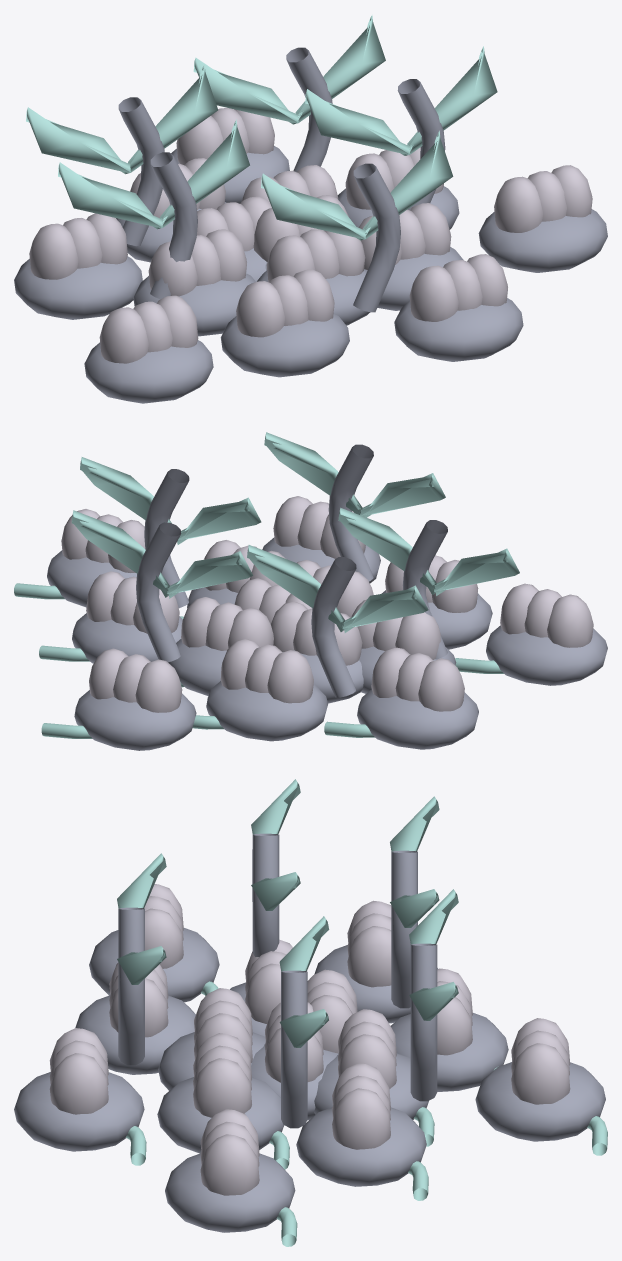
File: bio_acid_mat_22_far.glb
3 renders of one model, top to bottom at view 1: azimuth 30°, elevation 25°; view 2: azimuth 150°, elevation 25°; view 3: azimuth 270°, elevation 25°, orthographic. The views are drawn at different scales.
Visible parts, largest first — view 1: Microbial cushion.012, Microbial cushion.007, Microbial cushion.010, Microbial cushion.013, Microbial cushion.009, Secondary fan lobe, Secondary fan lobe.004, Secondary fan lobe.002, Secondary fan lobe.008, Secondary fan lobe.006, Reaction vesicle.036, Reaction vesicle.021 (+23 smaller); view 2: Microbial cushion.011, Microbial cushion.012, Microbial cushion.006, Microbial cushion.009, Reaction vesicle.033, Reaction vesicle.036, Reaction vesicle.027, Reaction vesicle.018, Secondary fan lobe.002, Secondary fan lobe.006, Secondary fan lobe.008, Secondary fan lobe.004 (+29 smaller); view 3: Microbial cushion.011, Microbial cushion.008, Microbial cushion.010, Microbial cushion.013, Reaction vesicle.024, Reaction vesicle.039, Reaction vesicle.033, Reaction vesicle.030, Reaction vesicle.015, Microbial cushion.005, Microbial cushion.006, Branching support.003 (+24 smaller).
Part boxes in pixels (bbox=[...]): Microbial cushion.012: bbox=[84, 340, 213, 403]; Microbial cushion.007: bbox=[220, 313, 349, 377]; Microbial cushion.010: bbox=[394, 298, 523, 361]; Microbial cushion.013: bbox=[478, 209, 607, 272]; Microbial cushion.009: bbox=[14, 256, 142, 319]; Secondary fan lobe: bbox=[305, 46, 497, 155]; Secondary fan lobe.004: bbox=[261, 130, 453, 240]; Secondary fan lobe.002: bbox=[26, 64, 217, 174]; Secondary fan lobe.008: bbox=[58, 119, 249, 229]; Secondary fan lobe.006: bbox=[193, 15, 385, 124]; Reaction vesicle.036: bbox=[99, 295, 198, 363]; Reaction vesicle.021: bbox=[236, 269, 334, 337]; Microbial cushion.011: bbox=[74, 690, 196, 750]; Microbial cushion.012: bbox=[486, 625, 607, 685]; Microbial cushion.006: bbox=[206, 681, 328, 741]; Microbial cushion.009: bbox=[357, 689, 478, 749]; Reaction vesicle.033: bbox=[89, 648, 182, 712]; Reaction vesicle.036: bbox=[500, 583, 593, 647]; Reaction vesicle.027: bbox=[371, 647, 464, 711]; Reaction vesicle.018: bbox=[220, 639, 313, 703]; Secondary fan lobe.002: bbox=[247, 545, 428, 632]; Secondary fan lobe.006: bbox=[71, 510, 252, 598]; Secondary fan lobe.008: bbox=[338, 507, 519, 595]; Secondary fan lobe.004: bbox=[264, 432, 445, 517]; Microbial cushion.011: bbox=[475, 1062, 605, 1141]; Microbial cushion.008: bbox=[296, 1107, 426, 1186]; Microbial cushion.010: bbox=[14, 1072, 144, 1151]; Microbial cushion.013: bbox=[165, 1153, 295, 1232]; Reaction vesicle.024: bbox=[332, 1063, 390, 1149]; Reaction vesicle.039: bbox=[200, 1109, 259, 1195]; Reaction vesicle.033: bbox=[511, 1018, 570, 1104]; Reaction vesicle.030: bbox=[49, 1028, 108, 1114]; Reaction vesicle.015: bbox=[193, 1033, 251, 1117]; Microbial cushion.005: bbox=[157, 1077, 284, 1153]; Microbial cushion.006: bbox=[391, 1013, 508, 1091]; Branching support.003: bbox=[410, 943, 437, 1101].
Bounding box in the file's own units: 2.33 × 0.7549 × 2.
